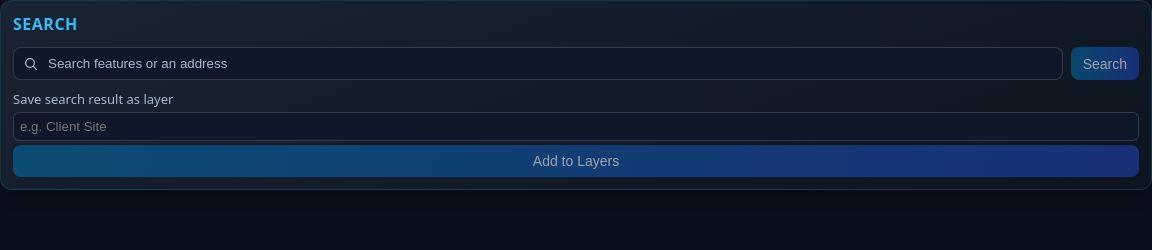
Test: GlobalSearchPanel › resets the address query and results back to their initial state once a search result is saved
Step 1. Type "1 Some Street" into the field labelled "Search features or an address" → (538, 64), box x1=13 y1=47 x2=1063 y2=80
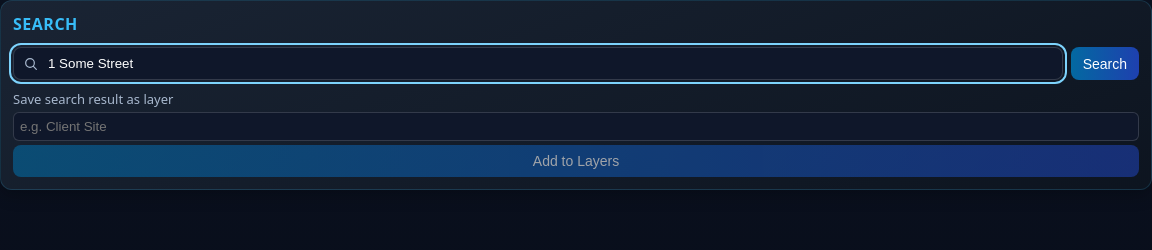
Step 2. Click the button "Search" → (1105, 64), box x1=1071 y1=47 x2=1139 y2=80
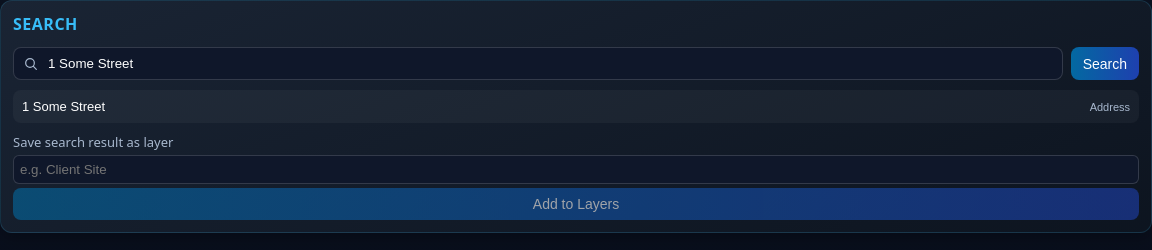
Check: the option "1 Some Street Address" is shown, box x1=13 y1=90 x2=1139 y2=123
Step 3. Type "Client Site" into the field named "New search result layer name" → (576, 170), box x1=13 y1=155 x2=1139 y2=184
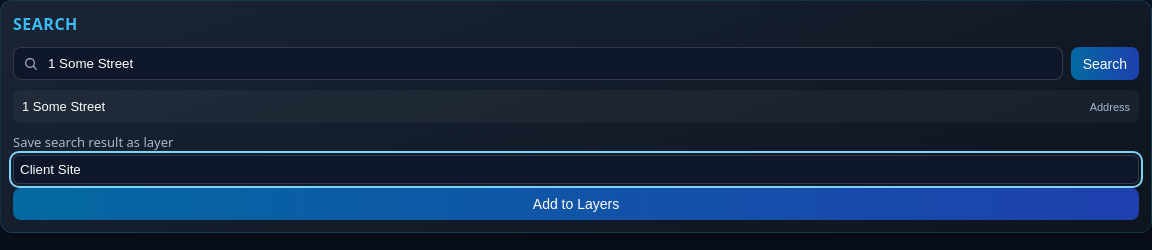
Step 4. Click the button "Add to Layers" → (576, 204), box x1=13 y1=188 x2=1139 y2=220
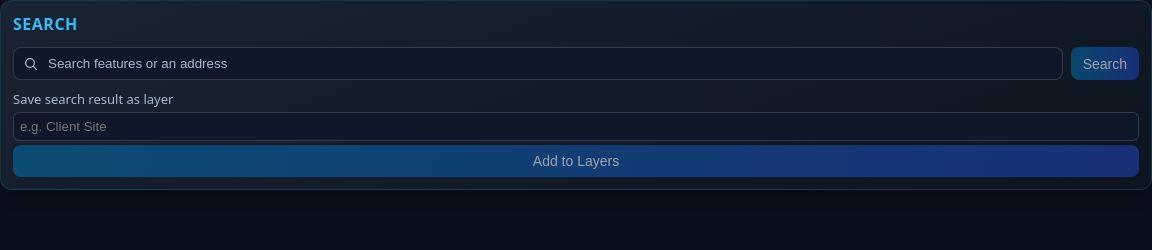
Check: the field labelled "Search features or an address" is empty, box x1=13 y1=47 x2=1063 y2=80
Check: the option "1 Some Street" is gone
